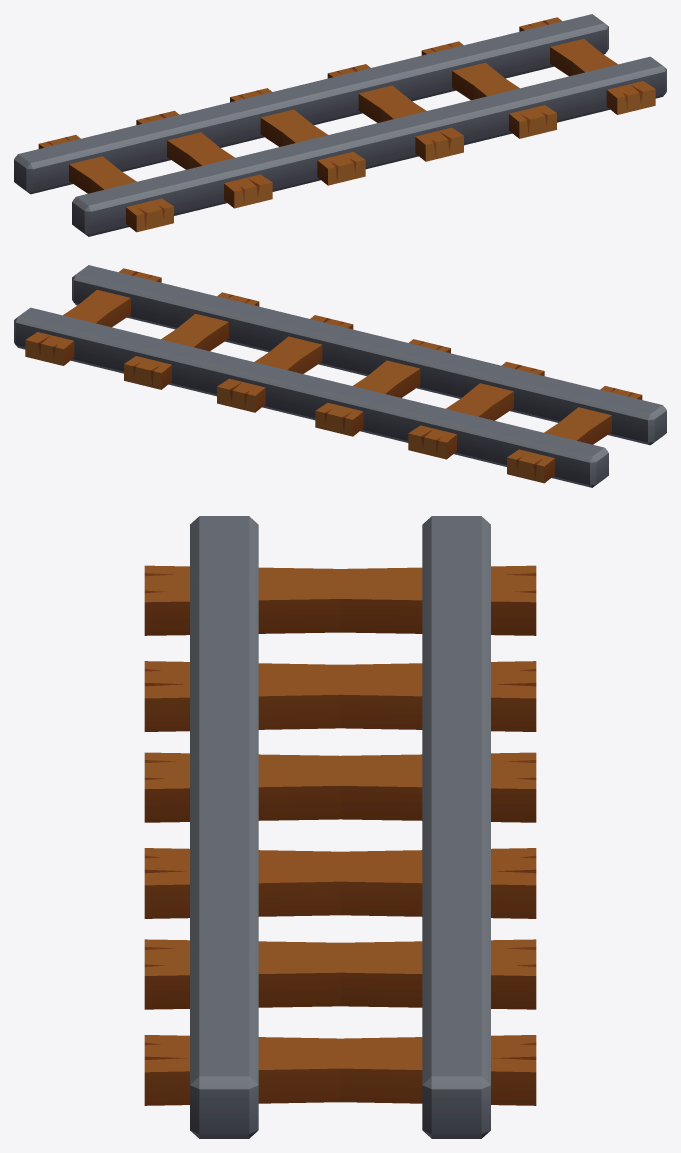
File: railway_3.glb
3 renders of one model, top to bottom at view 1: azimuth 30°, elevation 25°; view 2: azimuth 150°, elevation 25°; view 3: azimuth 270°, elevation 25°, orthographic. The views are drawn at different scales.
Parts seen in each view (by area): view 1: railway_3; view 2: railway_3; view 3: railway_3.
Part boxes in pixels (box(x1,y1,x2,y2)): railway_3: box(14, 14, 666, 236); railway_3: box(14, 265, 666, 487); railway_3: box(144, 516, 536, 1138).
Bounding box in the file's own units: 2.08 × 0.1065 × 0.6061.
1 material, 1 textured.
